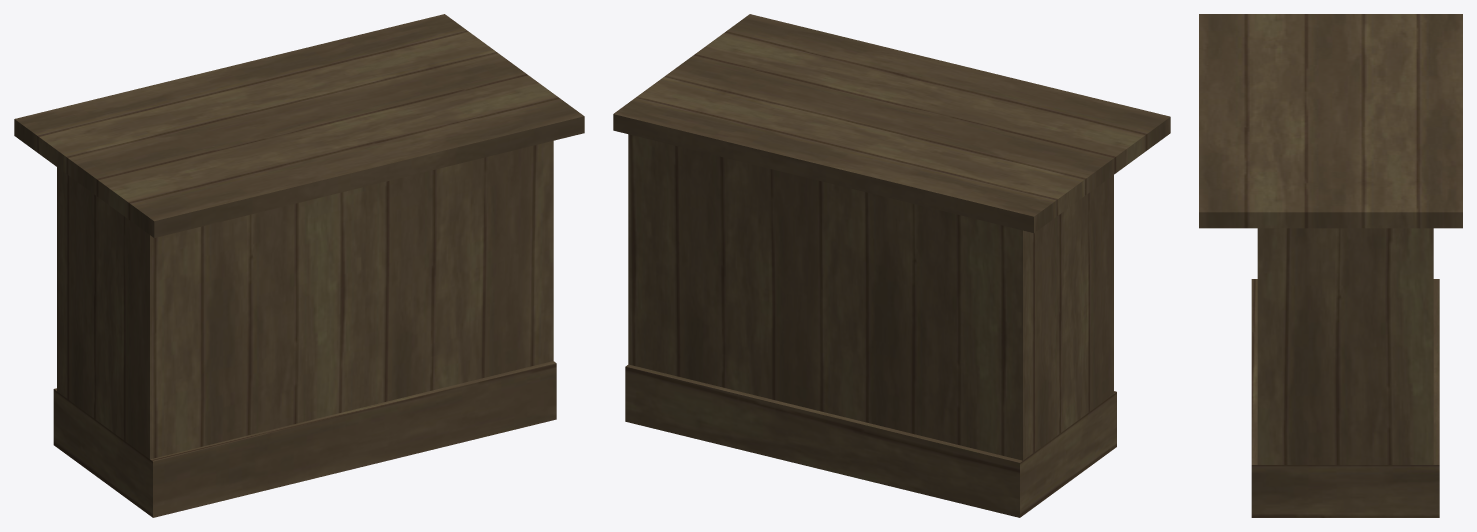
The model's file is counter_L.glb.
3 views of the same model, side by side, from view 1: azimuth 30°, elevation 25°; view 2: azimuth 150°, elevation 25°; view 3: azimuth 270°, elevation 25° (orthographic). The views are drawn at different scales.
Visible parts, largest first — view 1: counter_L; view 2: counter_L; view 3: counter_L.
Part boxes in pixels (<box>): counter_L: <box>14,14,584,517</box>; counter_L: <box>613,14,1170,517</box>; counter_L: <box>1199,14,1462,517</box>.
Bounding box in the file's own units: 1.6 × 1.15 × 0.9.
1 material, 1 textured.
